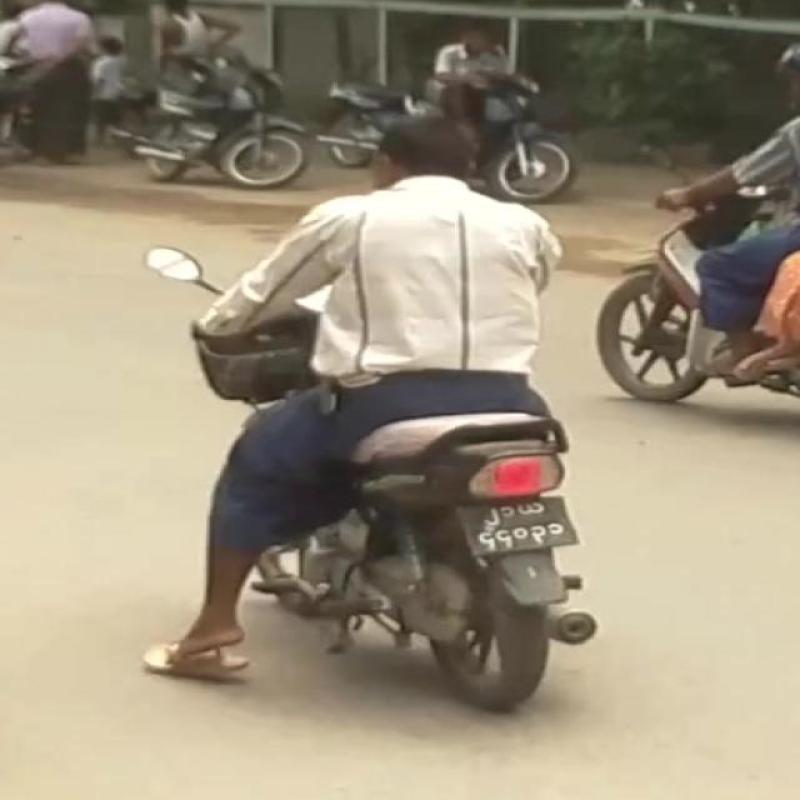nohelmet: (347, 101, 528, 192)
